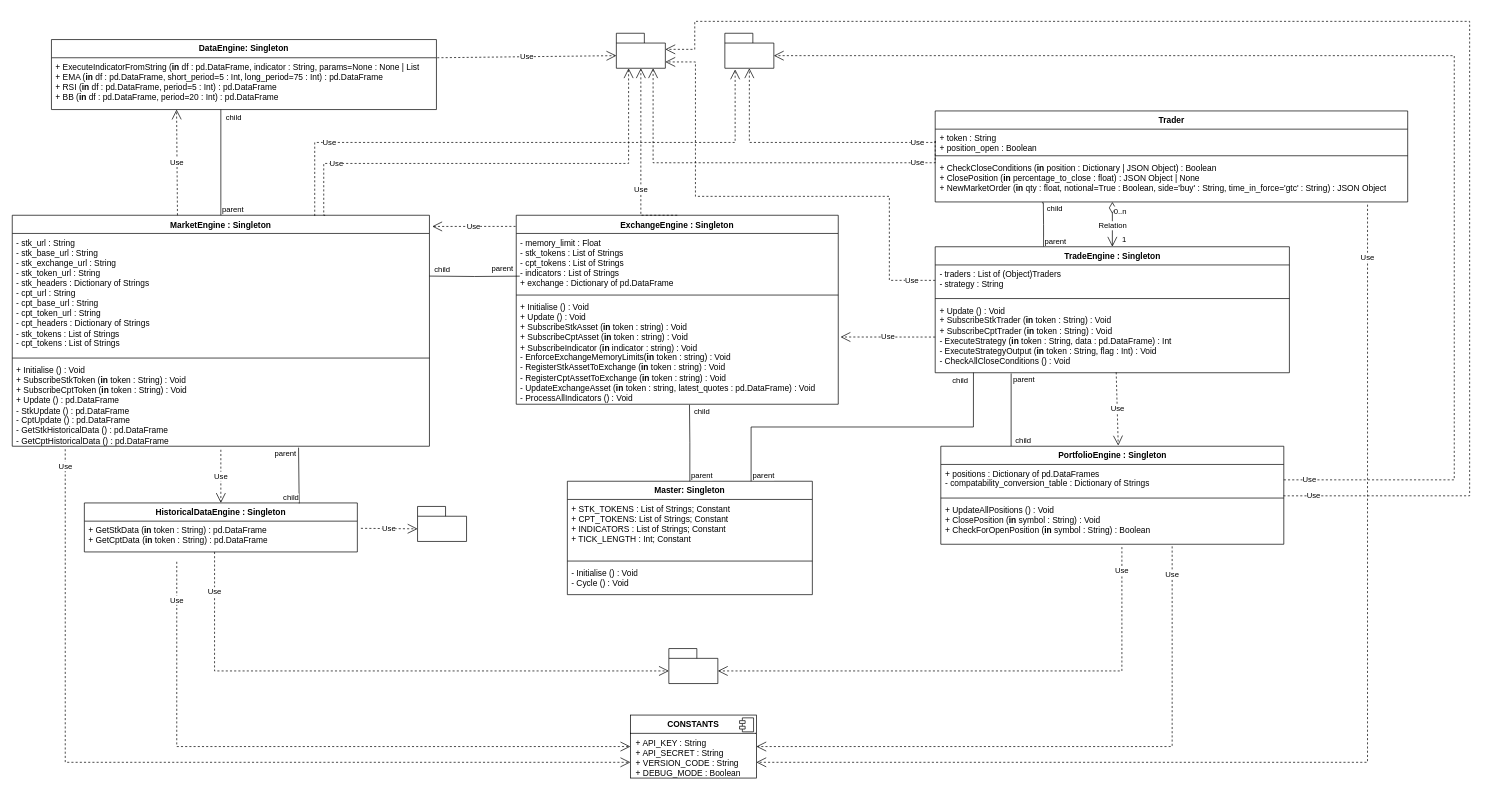
This 1492x790 diagram has some shape labels left out. Each missing label, with the centre of its shape:
alpaca: the point at 442,523
JSON.PY: the point at 693,666
pandas: the point at 640,50
requests: the point at 749,50
